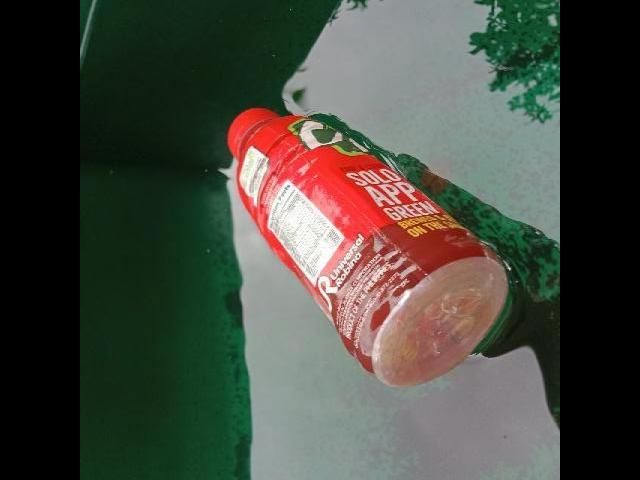Bottle: (202, 63, 528, 410)
